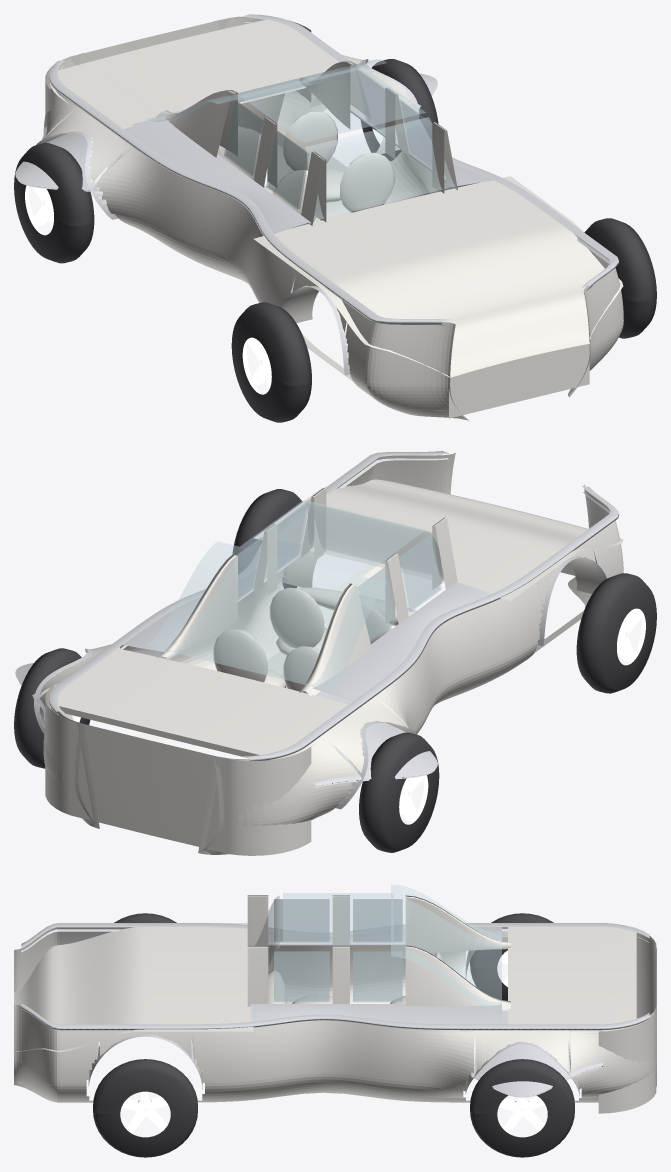
Rendered from ev-sedan-bulge.glb.
3 renders of one model, top to bottom at view 1: azimuth 30°, elevation 25°; view 2: azimuth 150°, elevation 25°; view 3: azimuth 270°, elevation 25°, orthographic. The views are drawn at different scales.
Visible parts, largest first — view 1: BodyHood, BodySide_L, BodyDeck, Windshield, RoofGlass, WheelFLTire, BodySide_R, BodyNose, WheelRLTire, BodyBeltShelf_L, BodyBeltLip_L, WheelFRTire (+24 smaller); view 2: BodyFascia, BodySide_L, RearWindow, BodyHood, BodyDeck, RoofGlass, BodySide_R, WheelFLTire, WheelRLTire, BodyBeltShelf_L, Windshield, BodyBeltLip_L (+27 smaller); view 3: BodySide_R, BodyHood, BodyDeck, BodySide_L, RearWindow, WheelFRTire, WheelRRTire, RoofGlass, BodyBeltLip_R, BodyBeltShelf_R, BodyCPillar_R, BodyFascia (+17 smaller).
Boxes of the visible parts, x1,y1,x2,y2 form: BodyHood: (253, 176, 623, 377); BodySide_L: (43, 53, 470, 421); BodyDeck: (50, 19, 339, 128); Windshield: (305, 117, 455, 220); RoofGlass: (240, 66, 425, 142); WheelFLTire: (231, 302, 311, 422); BodySide_R: (214, 18, 623, 397); BodyNose: (449, 344, 589, 418); WheelRLTire: (14, 143, 94, 263); BodyBeltShelf_L: (124, 116, 310, 233); BodyBeltLip_L: (49, 60, 450, 325); WheelFRTire: (584, 218, 656, 338); BodyFascia: (45, 684, 311, 855); BodySide_L: (199, 484, 623, 854); RearWindow: (146, 541, 386, 690); BodyHood: (254, 479, 622, 600); BodyDeck: (50, 648, 348, 760); RoofGlass: (240, 500, 425, 576); BodySide_R: (39, 453, 455, 827); WheelFLTire: (576, 573, 656, 693); WheelRLTire: (359, 732, 439, 852); BodyBeltShelf_L: (312, 582, 492, 701); Windshield: (306, 502, 443, 578); BodyBeltLip_L: (242, 485, 619, 760); BodySide_R: (14, 1004, 656, 1102); BodyHood: (14, 923, 253, 1052); BodyDeck: (508, 927, 636, 1033); BodySide_L: (14, 927, 656, 1003); RearWindow: (391, 884, 501, 1010); WheelFRTire: (93, 1059, 197, 1157); WheelRRTire: (470, 1059, 574, 1157); RoofGlass: (283, 893, 393, 944); BodyBeltLip_R: (21, 1003, 649, 1030); BodyBeltShelf_R: (250, 1004, 501, 1024); BodyCPillar_R: (405, 945, 510, 1010); BodyFascia: (598, 936, 656, 1113).
Bounding box in the file's own units: 2.85 × 1.24 × 4.4.
